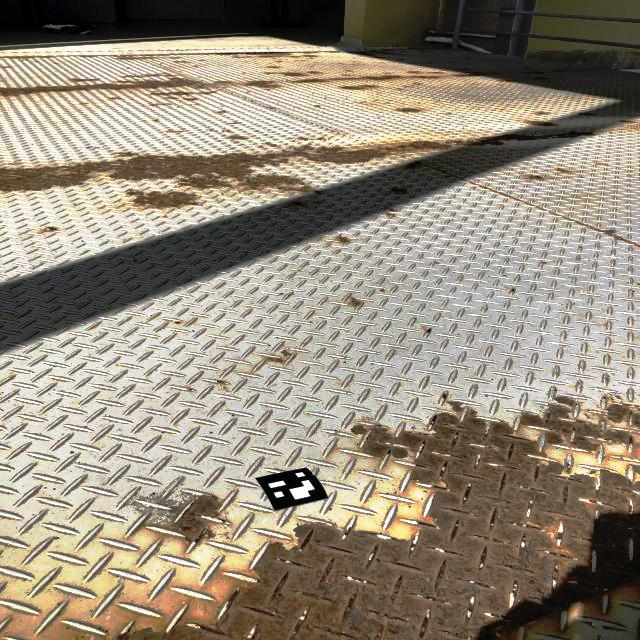Corrosion: (107, 400, 640, 639), (0, 140, 453, 194), (0, 77, 211, 97), (160, 496, 223, 555), (445, 131, 601, 146), (574, 221, 640, 246), (123, 189, 200, 209), (605, 403, 640, 429), (292, 75, 403, 83), (242, 80, 281, 91), (553, 395, 579, 408), (350, 424, 373, 436), (526, 120, 559, 127), (113, 55, 158, 60), (150, 91, 194, 96), (450, 72, 485, 78), (339, 85, 378, 90), (346, 295, 362, 307), (265, 72, 308, 76), (405, 160, 423, 169), (260, 54, 300, 58), (0, 56, 53, 59), (349, 51, 376, 56), (336, 235, 350, 244), (69, 78, 99, 82), (555, 167, 573, 173), (280, 349, 293, 357), (391, 186, 408, 192), (267, 357, 284, 363), (632, 463, 640, 475), (292, 201, 308, 207), (245, 53, 291, 55), (605, 393, 615, 402), (226, 135, 248, 139), (524, 175, 541, 180), (412, 76, 440, 79), (399, 108, 420, 112), (213, 81, 233, 85), (182, 97, 197, 102), (159, 72, 174, 77), (584, 469, 596, 475), (201, 90, 216, 94), (620, 120, 639, 123), (527, 71, 545, 74), (441, 393, 447, 402), (407, 70, 420, 74), (215, 53, 240, 55), (496, 79, 512, 82), (296, 137, 308, 141), (143, 74, 159, 77), (614, 395, 623, 400), (306, 70, 321, 73), (106, 96, 121, 99), (387, 208, 398, 212), (385, 212, 396, 216), (534, 77, 548, 80), (310, 137, 324, 140), (232, 56, 253, 58), (127, 75, 141, 78), (267, 143, 277, 147), (216, 380, 226, 384), (291, 353, 296, 361), (166, 97, 179, 100), (585, 414, 592, 419), (425, 328, 432, 333), (302, 55, 319, 57), (79, 56, 96, 58), (174, 320, 182, 324), (303, 52, 319, 54), (579, 113, 594, 115), (327, 51, 341, 53), (46, 227, 55, 230), (521, 411, 530, 414), (599, 418, 605, 422), (267, 66, 279, 68), (431, 71, 443, 73), (168, 57, 180, 59), (175, 61, 187, 63), (151, 103, 158, 106), (511, 288, 516, 292), (538, 112, 547, 114), (460, 68, 469, 70), (3, 66, 11, 68), (188, 388, 193, 391), (153, 119, 158, 122), (603, 396, 607, 399), (371, 57, 383, 58), (606, 377, 608, 381), (380, 289, 384, 291)
